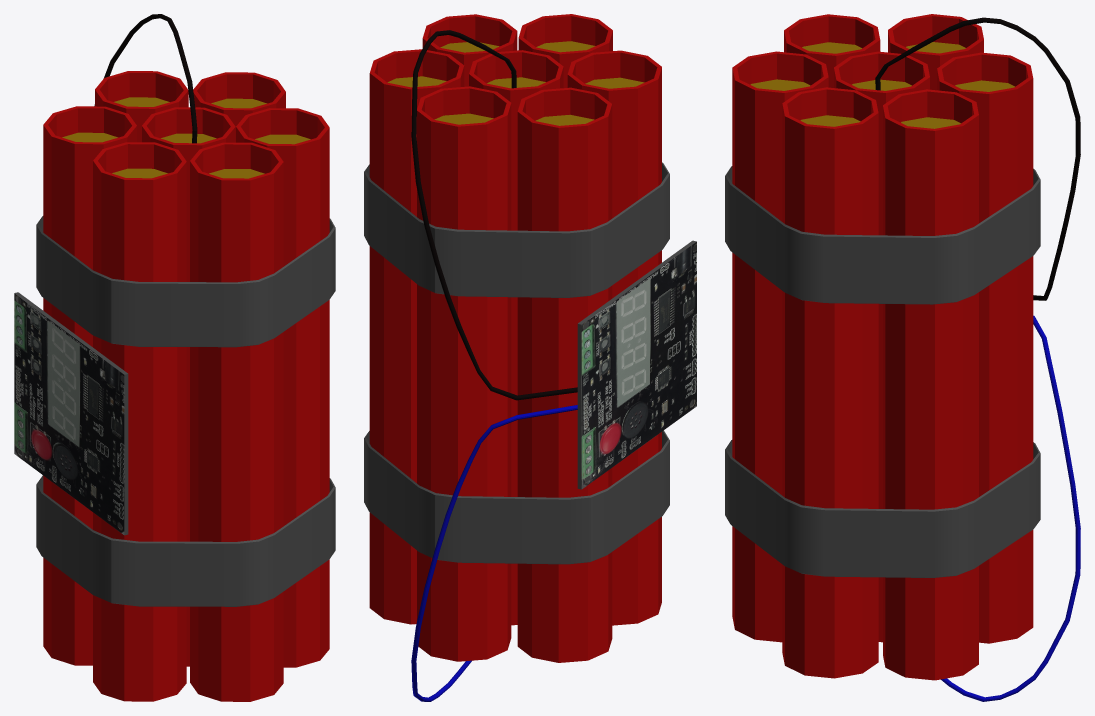
Rendered from tnt 1.fbx.
3 renders of one model, left to right at view 1: azimuth 30°, elevation 25°; view 2: azimuth 150°, elevation 25°; view 3: azimuth 270°, elevation 25°, orthographic. The views are drawn at different scales.
Visible parts, largest first — view 1: tnt; view 2: tnt; view 3: tnt.
Boxes of the visible parts, x1,y1,x2,y2 form: tnt: (14,14,335,701); tnt: (364,14,696,701); tnt: (725,14,1080,701).
Bounding box in the file's own units: 14.63 × 38.28 × 18.04.
6 materials, 1 textured.
